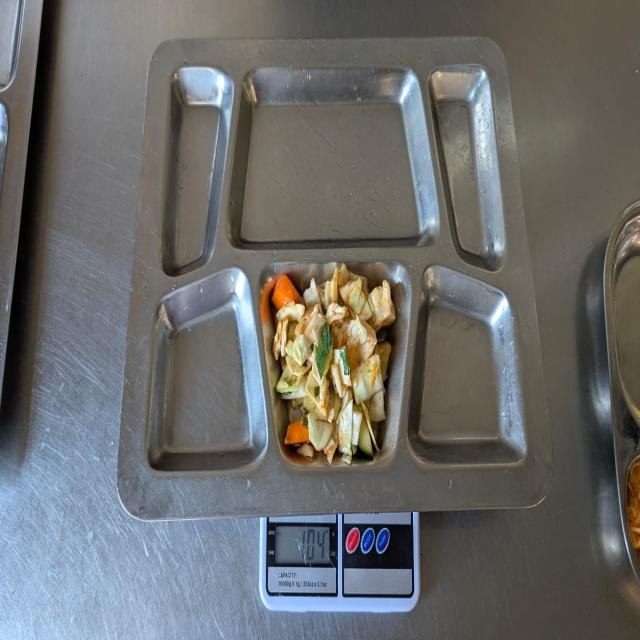Salad: (282, 278, 382, 454)
